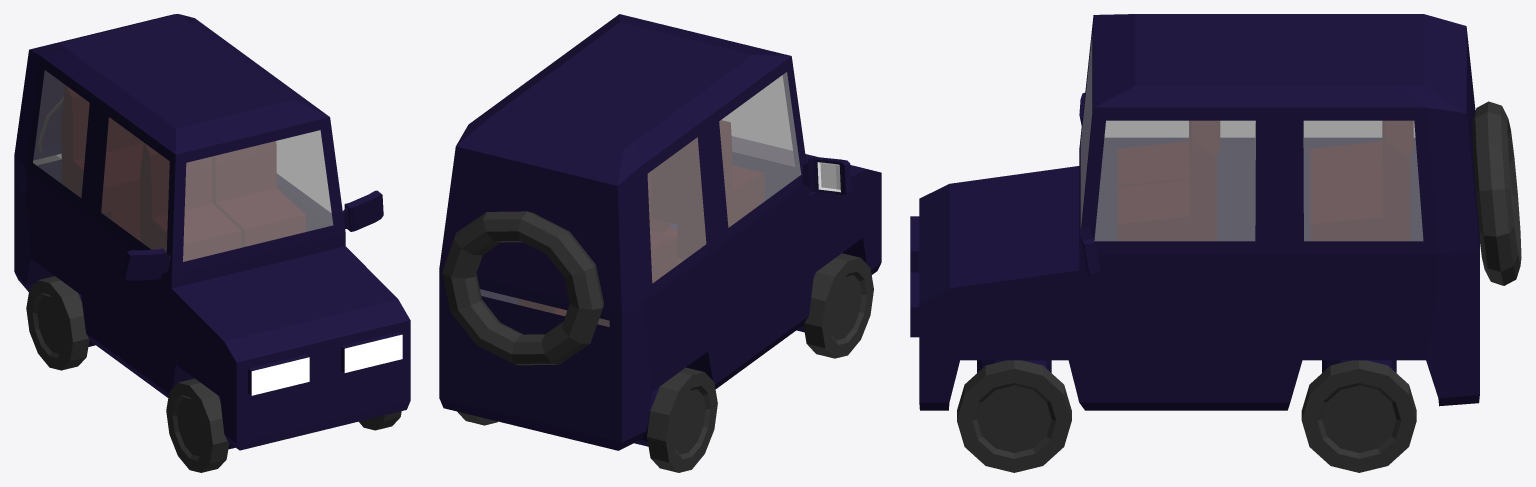
The model's file is cars10.glb.
3 renders of one model, left to right at view 1: azimuth 30°, elevation 25°; view 2: azimuth 150°, elevation 25°; view 3: azimuth 270°, elevation 25°, orthographic. The views are drawn at different scales.
Parts seen in each view (by area): view 1: Car10, Car10Tire1, Car10Tire2; view 2: Car10, Car10Tire2, Car10Tire1; view 3: Car10, Car10Tire2, Car10Tire1.
Part boxes in pixels (<box>): Car10: <box>14,14,410,450</box>; Car10Tire1: <box>166,378,401,472</box>; Car10Tire2: <box>26,276,95,370</box>; Car10: <box>439,14,881,450</box>; Car10Tire2: <box>457,367,717,472</box>; Car10Tire1: <box>796,253,873,358</box>; Car10: <box>910,14,1521,410</box>; Car10Tire2: <box>1301,360,1416,472</box>; Car10Tire1: <box>957,360,1071,472</box>.
Size of the model in its own units: 1.64 by 1.8 by 2.73.
